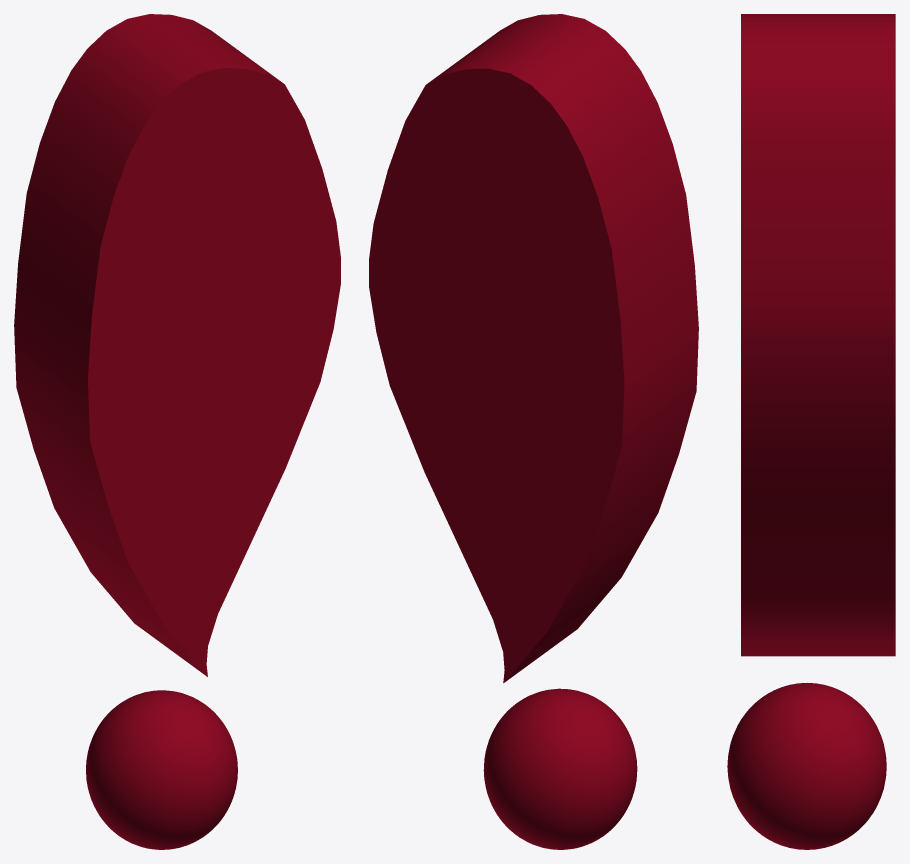
File: exclamation_mark.fbx
The picture shows the model from 3 angles, left to right: view 1: azimuth 30°, elevation 25°; view 2: azimuth 150°, elevation 25°; view 3: azimuth 270°, elevation 25°; orthographic projection. The views are drawn at different scales.
Visible parts, largest first — view 1: root (×2); view 2: root (×2); view 3: root (×2).
Boxes of the visible parts, x1=… form: root (×2): x1=14, y1=14, x2=340, y2=849; root (×2): x1=369, y1=14, x2=698, y2=849; root (×2): x1=727, y1=14, x2=895, y2=849.
Size of the model in its own units: 0.0601 by 0.1795 by 0.033.
